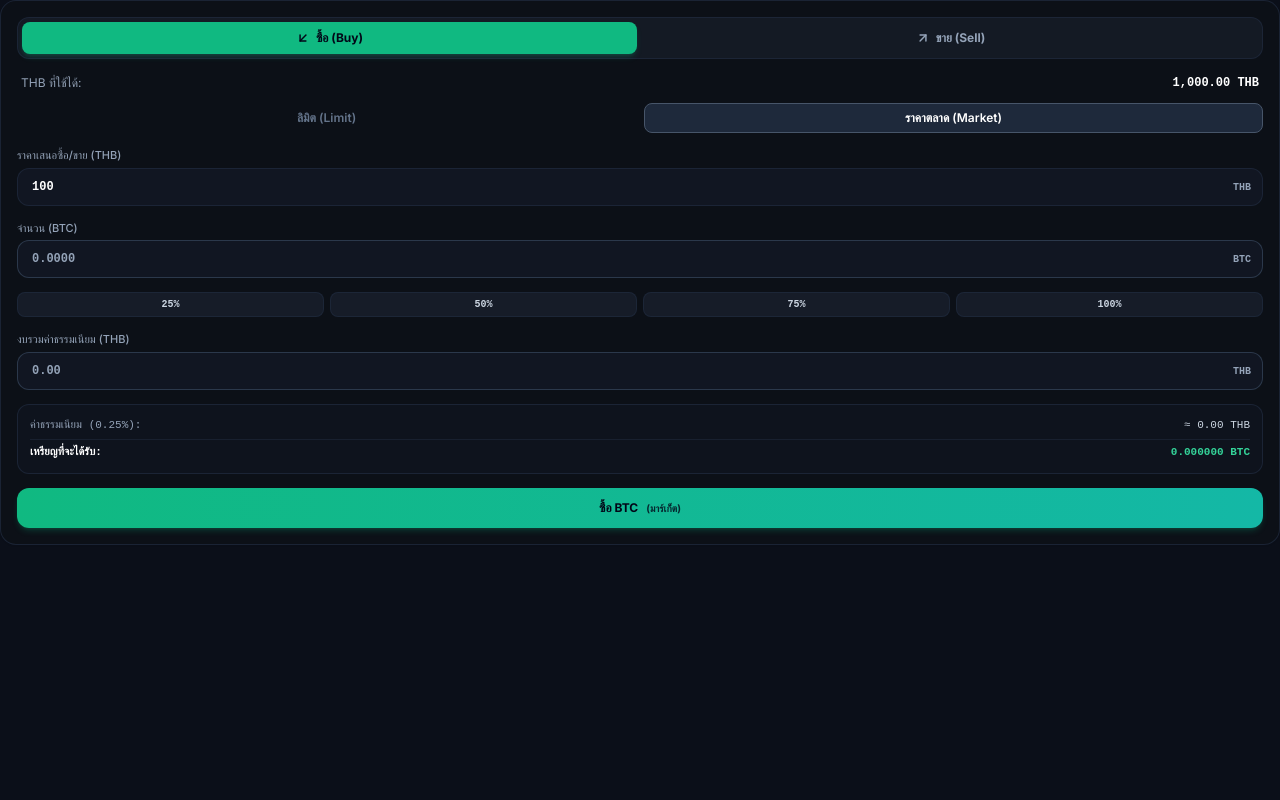
Test: Spot trading integration › recalculates Limit total when its price changes after entering amount
This screenshot has width=1280, height=800.
Click the button "ลิมิต (Limit)": (326, 118) x1=17 y1=103 x2=636 y2=133
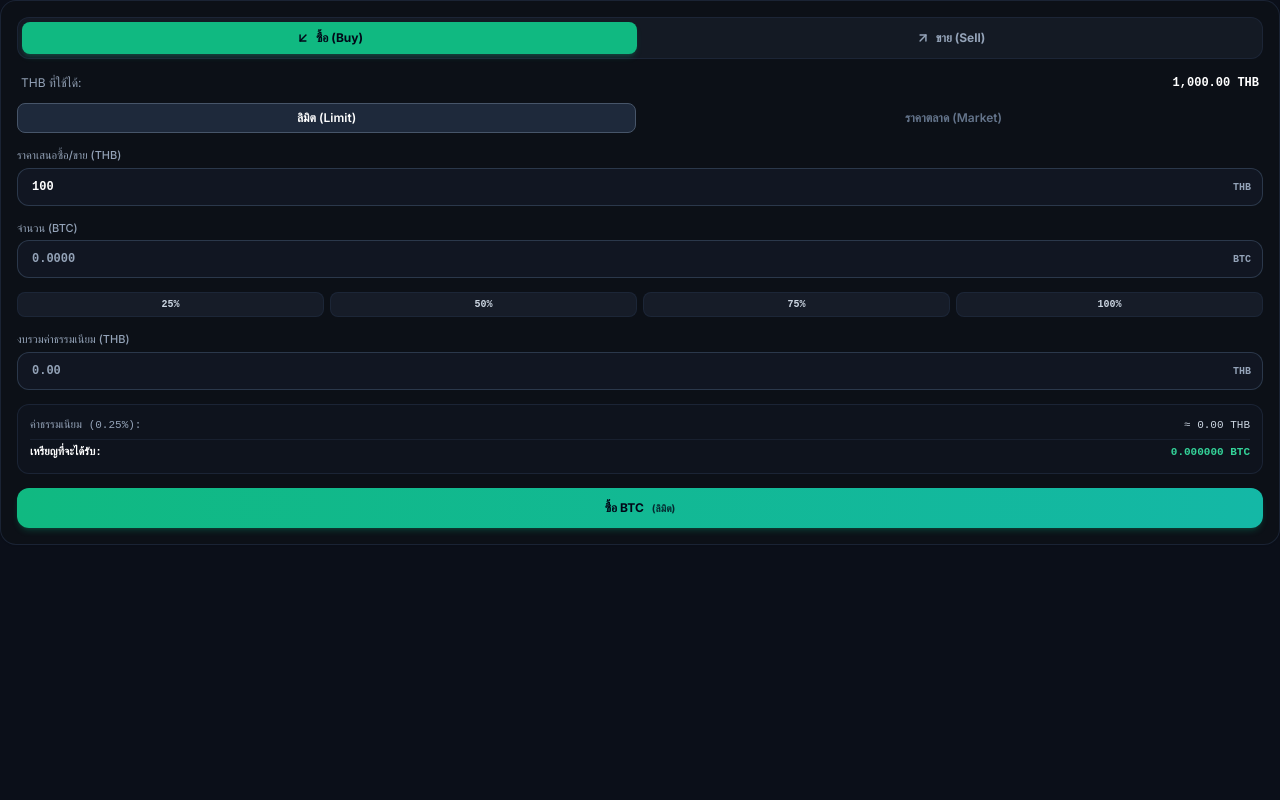
In the number field with placeholder "0.0000": (640, 259) x1=17 y1=240 x2=1263 y2=278, type "2"
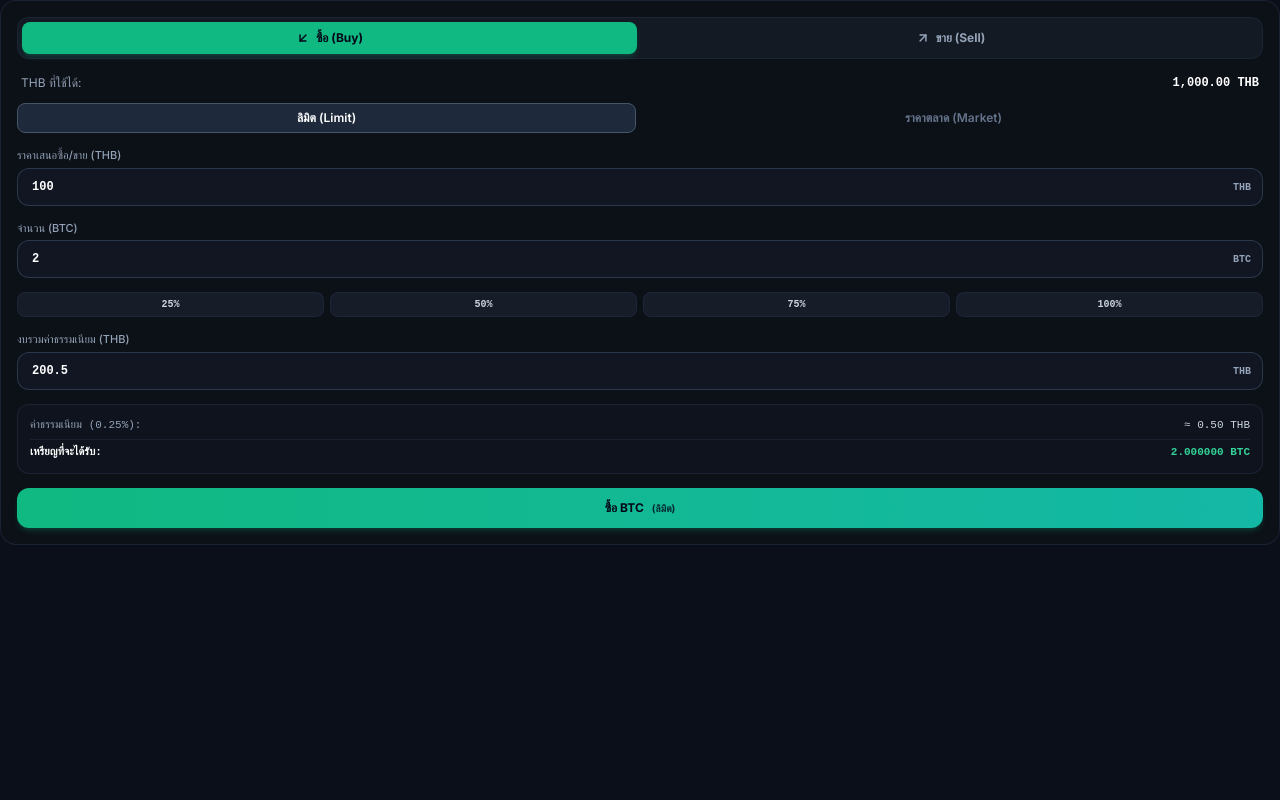
Replace the text in the number field below "ราคาเสนอซื้อ/ขาย (" with "120": (640, 186) x1=17 y1=168 x2=1263 y2=206
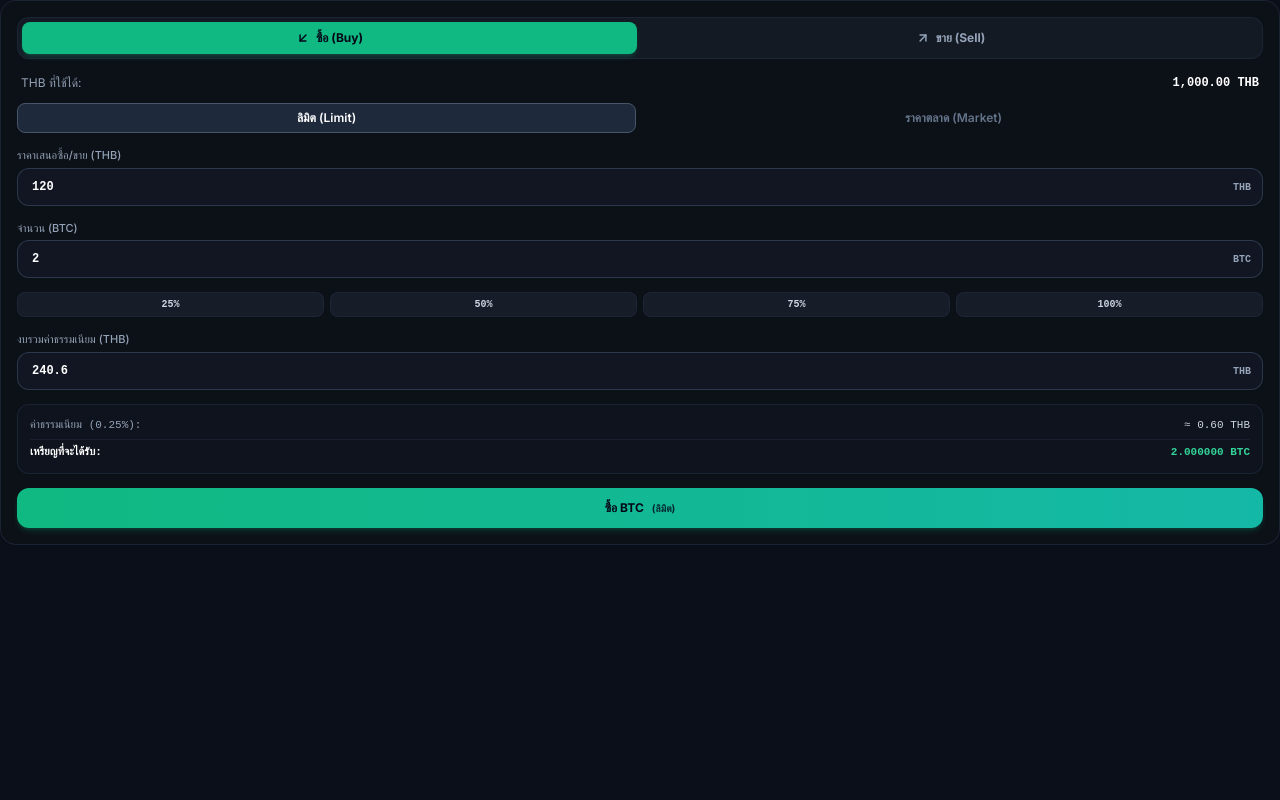
Expected: the number field below "งบรวมค่าธรรมเนียม" holds "240.6", x1=17 y1=352 x2=1263 y2=390
